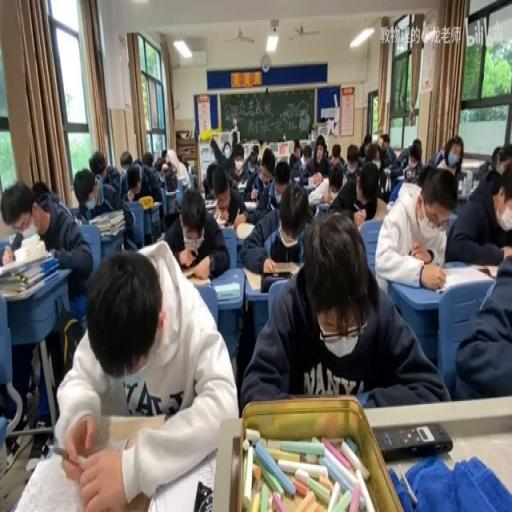calculator: (6, 451, 85, 512), (148, 448, 218, 512), (101, 412, 166, 451), (242, 262, 300, 292), (440, 265, 498, 290), (184, 267, 211, 286), (213, 282, 241, 300), (235, 222, 256, 240), (163, 169, 176, 192), (212, 206, 227, 225), (314, 200, 330, 214), (305, 175, 320, 189), (204, 196, 217, 208), (176, 174, 189, 186), (242, 201, 258, 209), (238, 179, 247, 189), (395, 174, 405, 179), (294, 176, 300, 184)
paper: (56, 240, 238, 508), (243, 210, 446, 410), (2, 179, 94, 403), (445, 150, 512, 264), (240, 178, 310, 273), (162, 185, 228, 280), (326, 156, 384, 222), (74, 165, 118, 222), (124, 160, 162, 214), (392, 136, 421, 184), (434, 134, 462, 178), (236, 141, 260, 183), (34, 180, 62, 214), (1, 232, 22, 266), (472, 150, 494, 180), (288, 144, 305, 182), (377, 134, 397, 166), (204, 162, 218, 199), (88, 150, 106, 176), (274, 164, 290, 192), (328, 142, 344, 169), (358, 131, 372, 161), (261, 148, 275, 176), (346, 145, 358, 175), (490, 144, 502, 168), (118, 150, 132, 170), (314, 136, 326, 158), (140, 151, 154, 168), (222, 141, 232, 158), (154, 155, 164, 171), (302, 145, 311, 161), (369, 155, 379, 169), (155, 169, 165, 181), (177, 151, 185, 165), (132, 158, 142, 168), (413, 149, 420, 162), (173, 199, 179, 212), (160, 149, 166, 158)
person: (373, 420, 453, 460)
